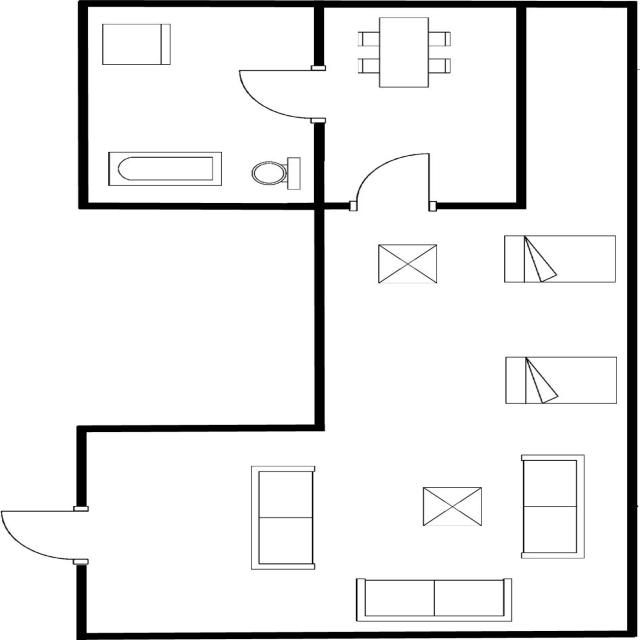bed: (499, 352, 623, 408), (499, 230, 619, 287)
coffee_table: (416, 484, 488, 529), (370, 241, 440, 286)
dining_table: (351, 14, 455, 92)
large_sink: (247, 154, 304, 192)
large_sofa: (242, 463, 320, 573), (515, 450, 588, 563), (350, 576, 516, 625)
small_sofa: (98, 20, 176, 70)
tub: (101, 149, 226, 189)
